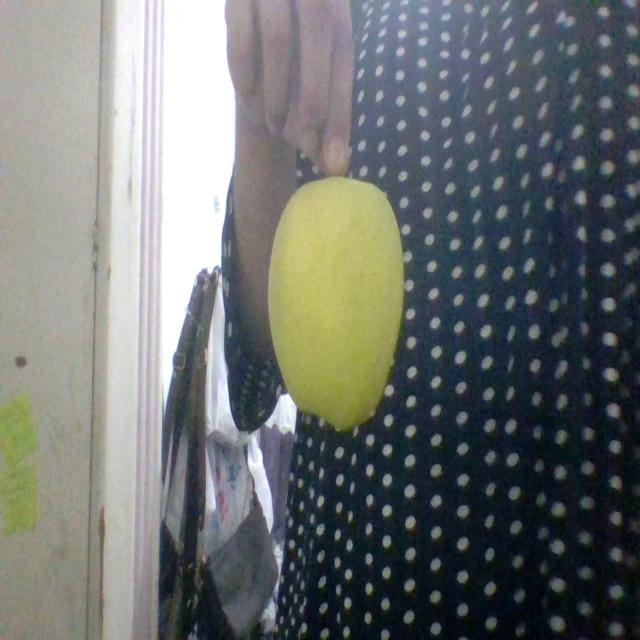Rotten Apple: (266, 175, 404, 426)
